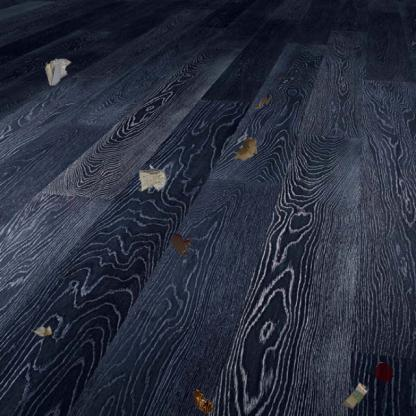dirty: (136, 162, 168, 193), (340, 381, 369, 411), (43, 57, 73, 86), (191, 388, 218, 416), (232, 136, 259, 162), (250, 93, 272, 110), (30, 324, 53, 339)
liquid: (170, 232, 193, 258), (373, 361, 395, 384)
